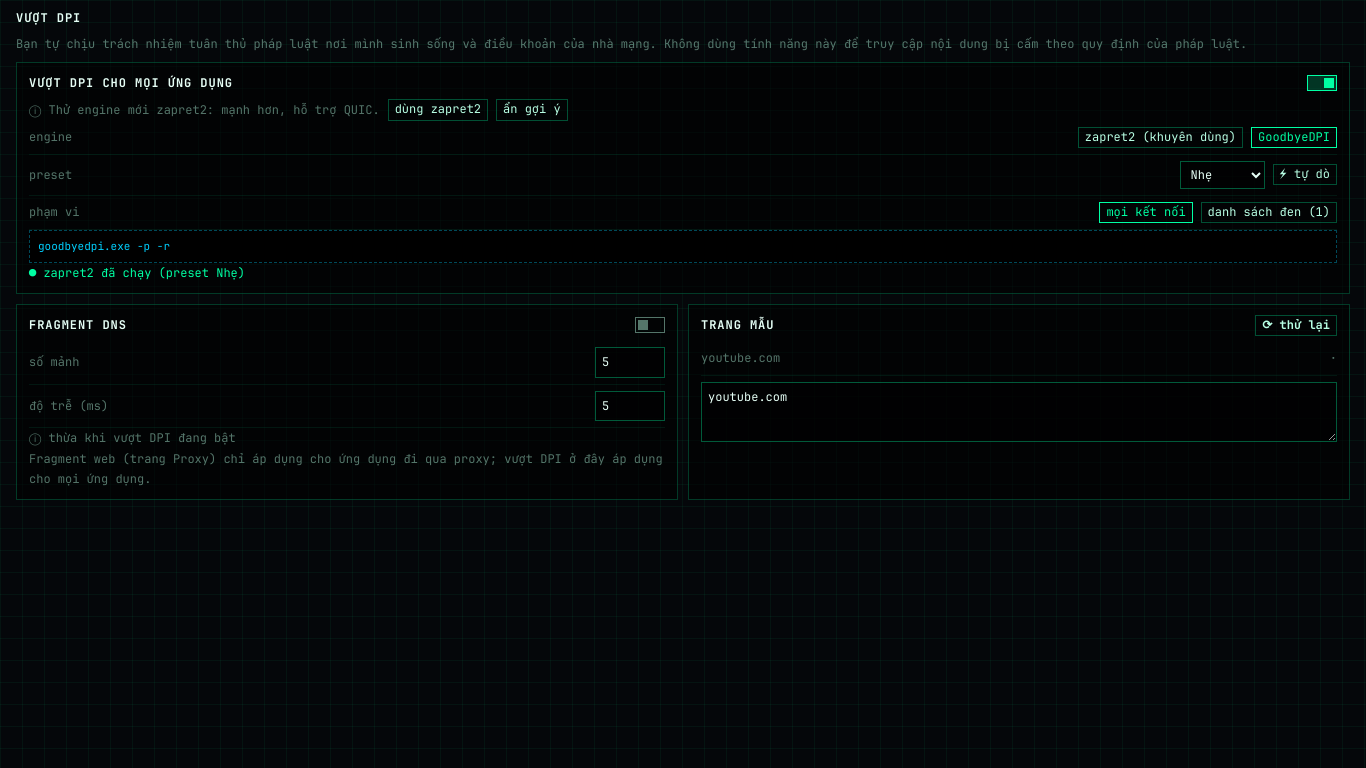
switching engine never shows the old engine's args or a raw strategy id
Check: the text named "dòng lệnh" shows "-p -r", box [137,239,170,253]
Click the button "zapret2 (khuyên dùng)". click: {"x": 1160, "y": 137}
box: [1078,127,1243,148]
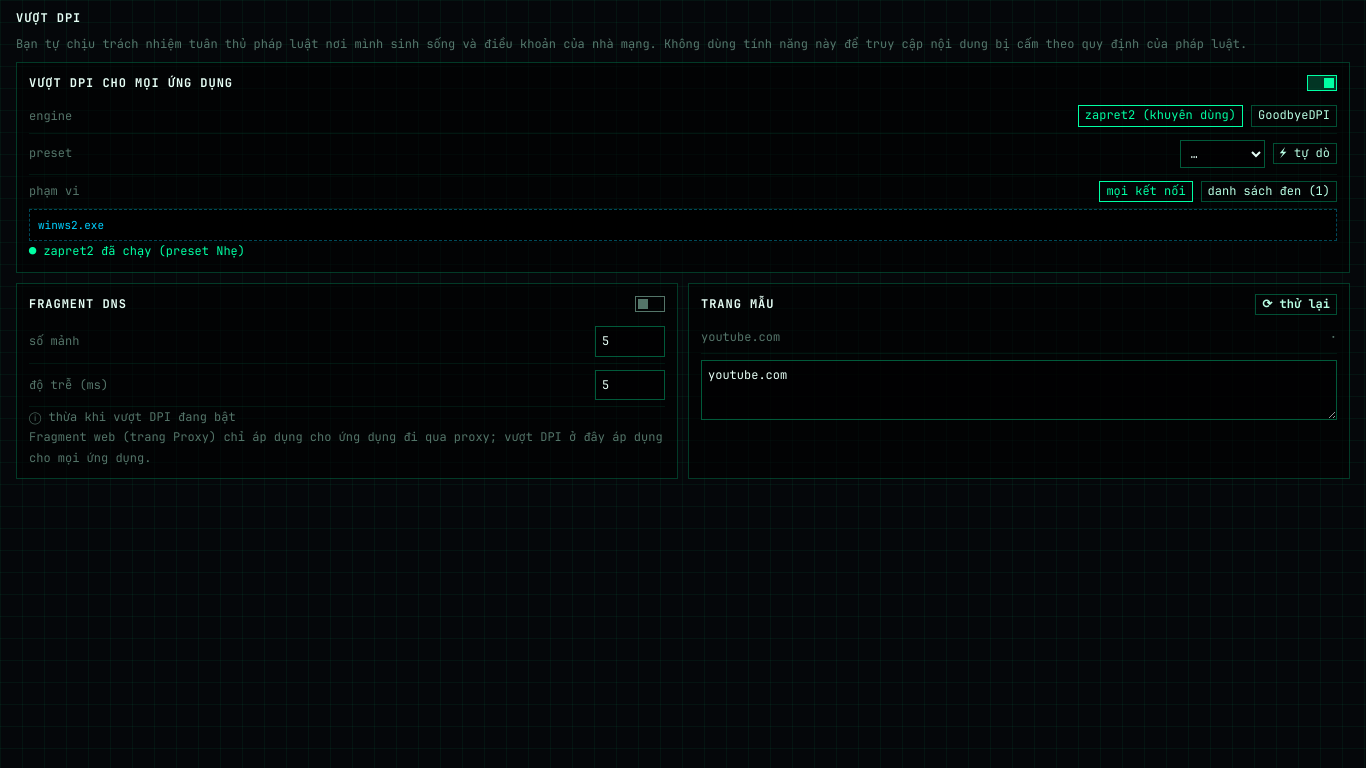
Check: the text named "dòng lệnh" reads "winws2.exe", box [38,218,104,232]
Check: the text labelled "dòng lệnh" no longer shows "-p -r"
